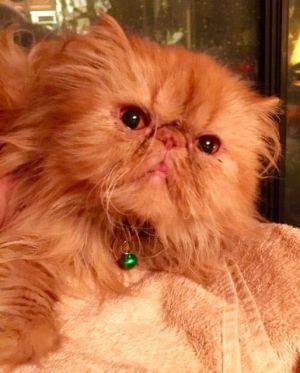persian: (49, 12, 278, 263)
